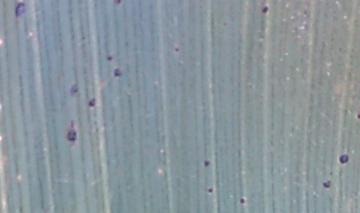tarspot: (65, 119, 78, 142), (13, 1, 26, 19), (67, 83, 80, 97), (337, 152, 350, 166), (112, 66, 123, 79), (321, 178, 332, 190), (87, 95, 97, 108), (260, 4, 270, 16), (201, 157, 211, 168), (205, 186, 214, 195), (238, 196, 246, 206), (335, 45, 343, 54), (173, 45, 181, 54), (327, 168, 334, 178), (221, 20, 228, 28), (105, 55, 113, 61), (79, 35, 87, 41), (355, 111, 360, 120), (112, 1, 123, 5)
